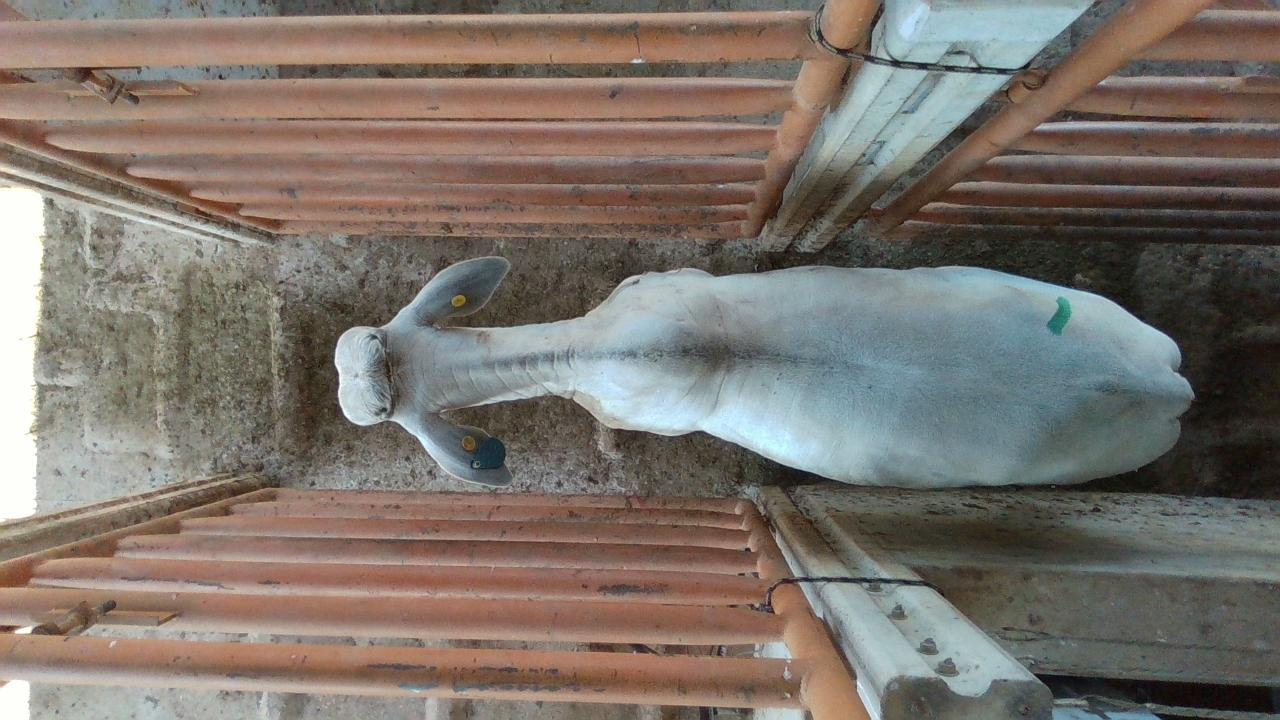cattle: (332, 255, 1195, 490)
